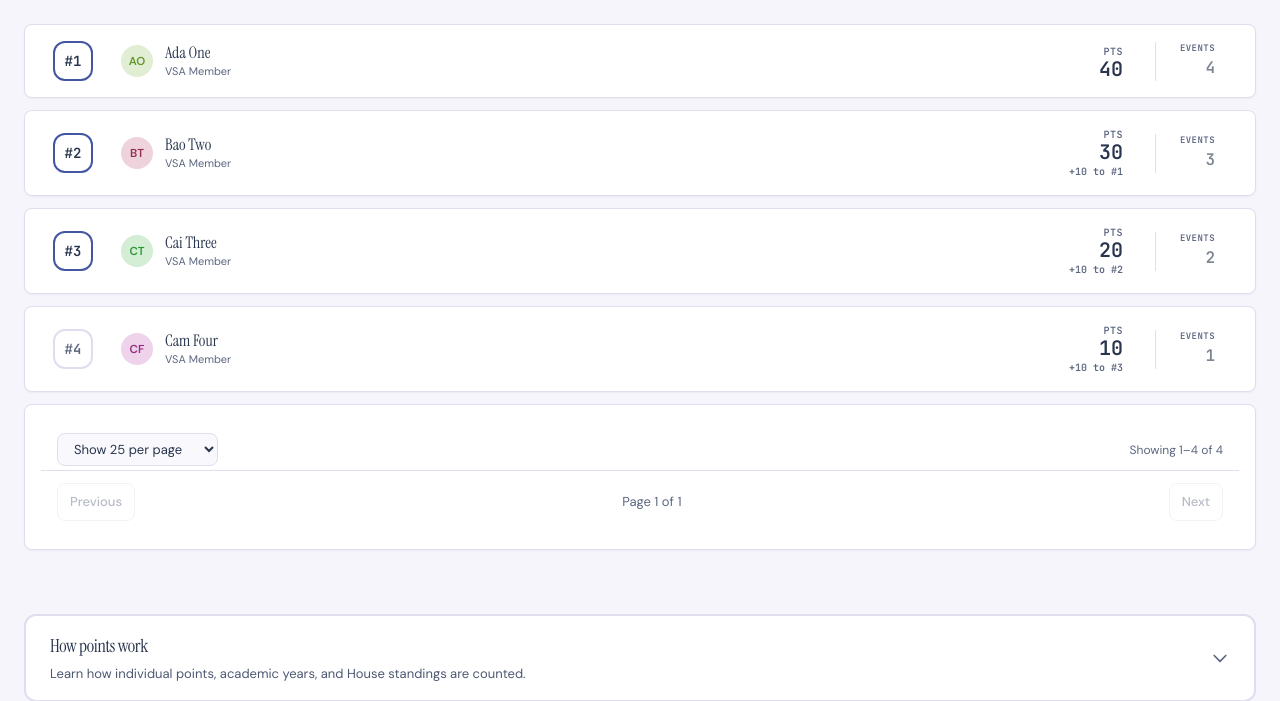
Test: leaderboard badges on ALL members, not only Top 3 (#627) › keeps scores and profiles functional even when the optional role read fails
The image size is (1280, 701).
(page scrolled)
Check: the text "10" is shown, box [1099,335,1123,361]
Step 1. Click the button with aria-label "Open profile for Cam Four" → (191, 341), box [165,331,218,351]
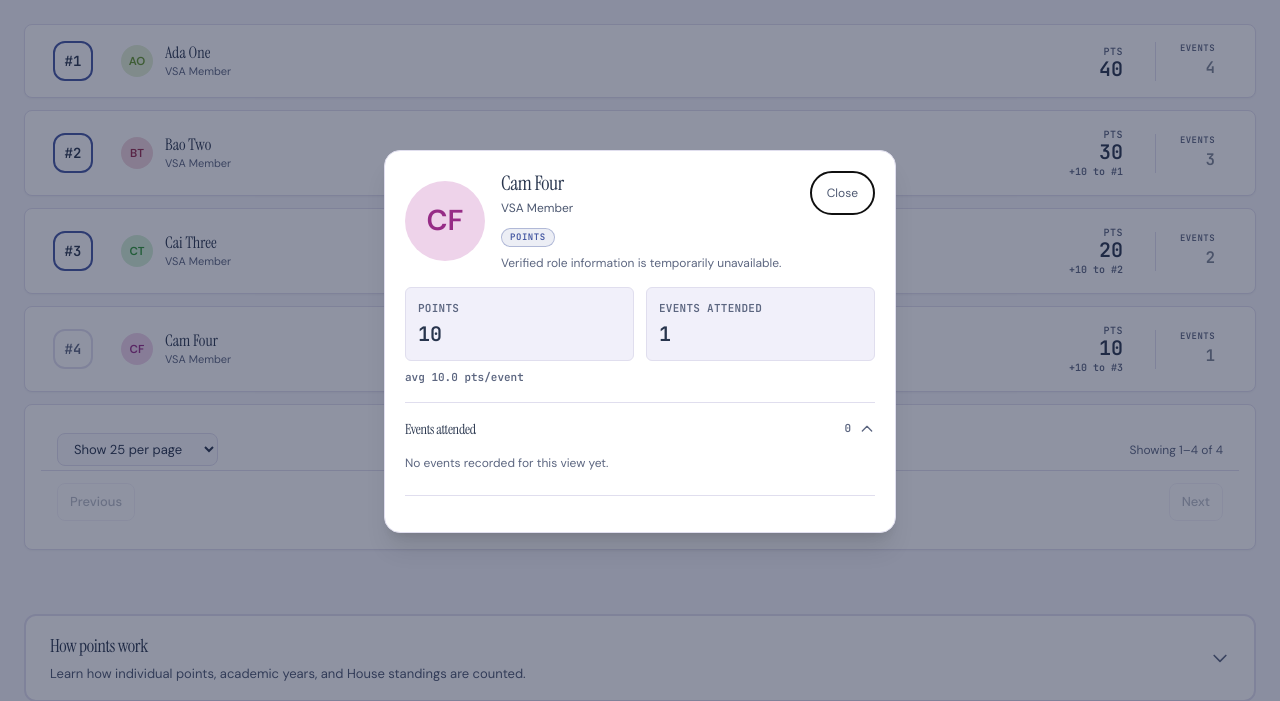
Check: the text "Verified role information is temporarily unavailable." is shown, box [501,254,781,270]
